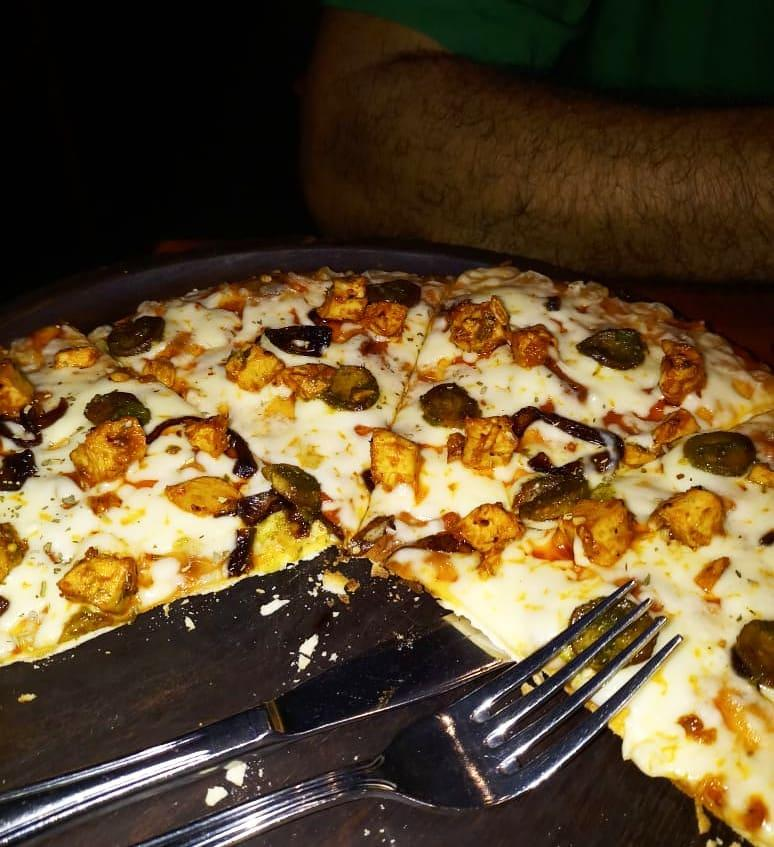Chicken: (451, 302, 553, 369), (65, 417, 145, 482), (60, 550, 136, 615), (647, 486, 721, 551), (569, 496, 636, 565), (326, 277, 405, 332), (374, 425, 424, 490), (168, 477, 242, 518), (226, 341, 284, 393), (461, 504, 524, 550), (463, 416, 516, 469), (660, 340, 706, 401), (284, 362, 341, 399), (0, 358, 35, 415), (187, 413, 228, 454), (55, 346, 97, 366)
Pizza: (371, 269, 774, 847), (1, 270, 369, 661)
